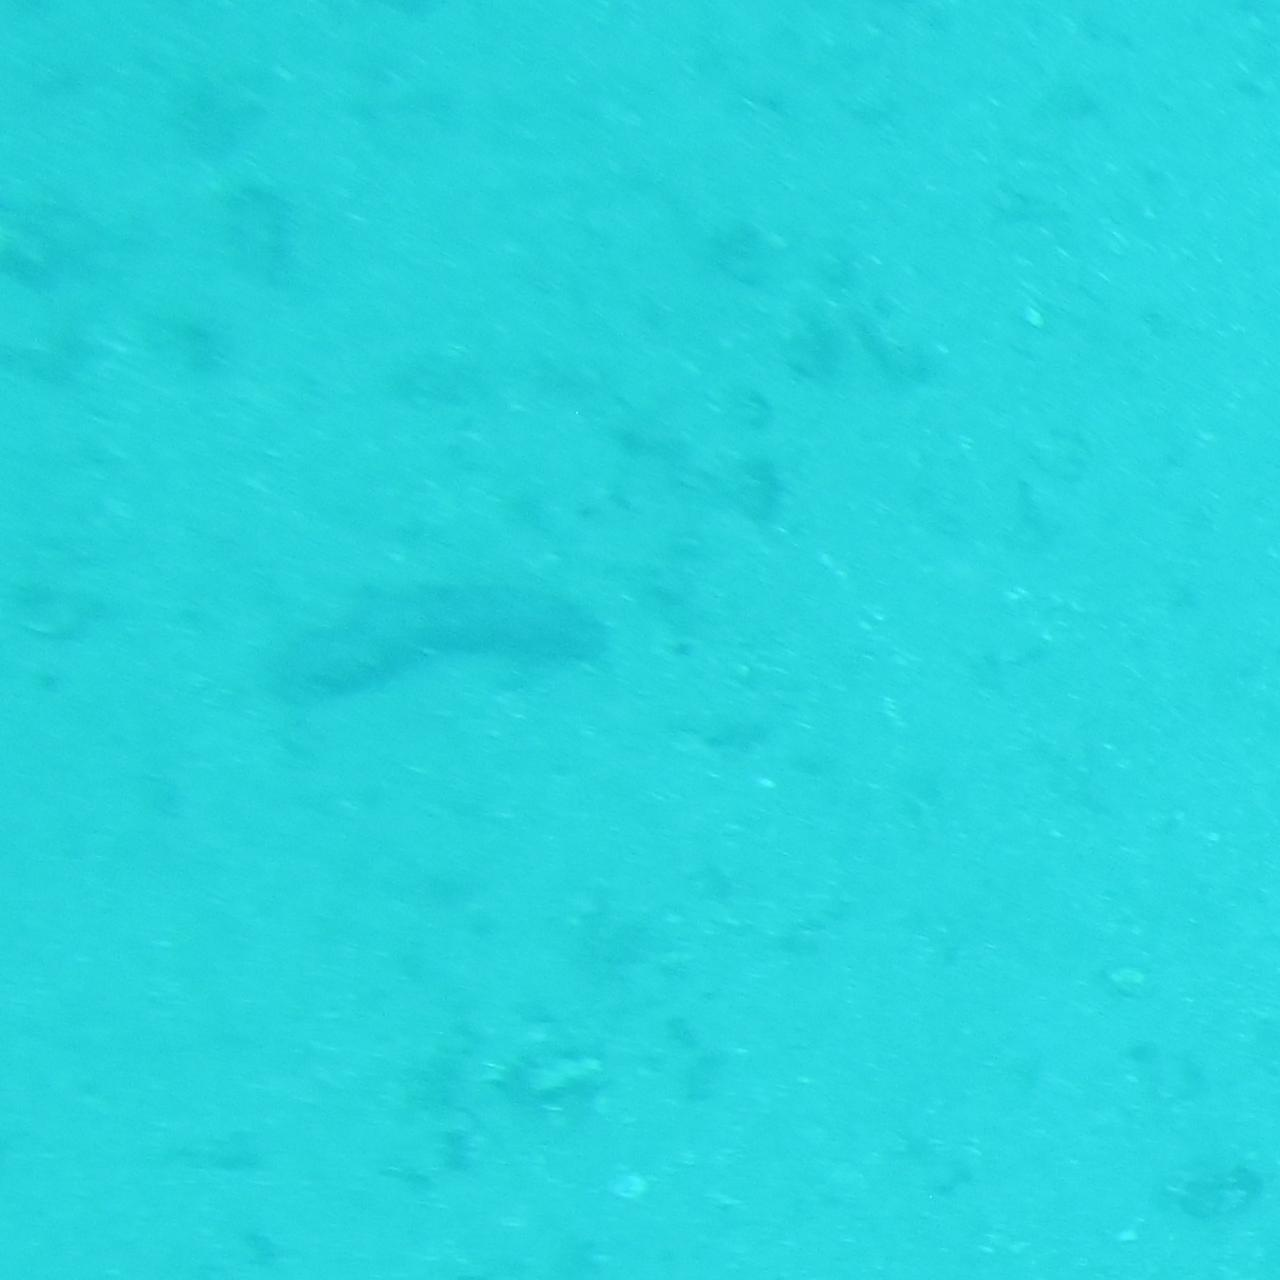Holothuria tubulosa: (266, 570, 639, 710)
